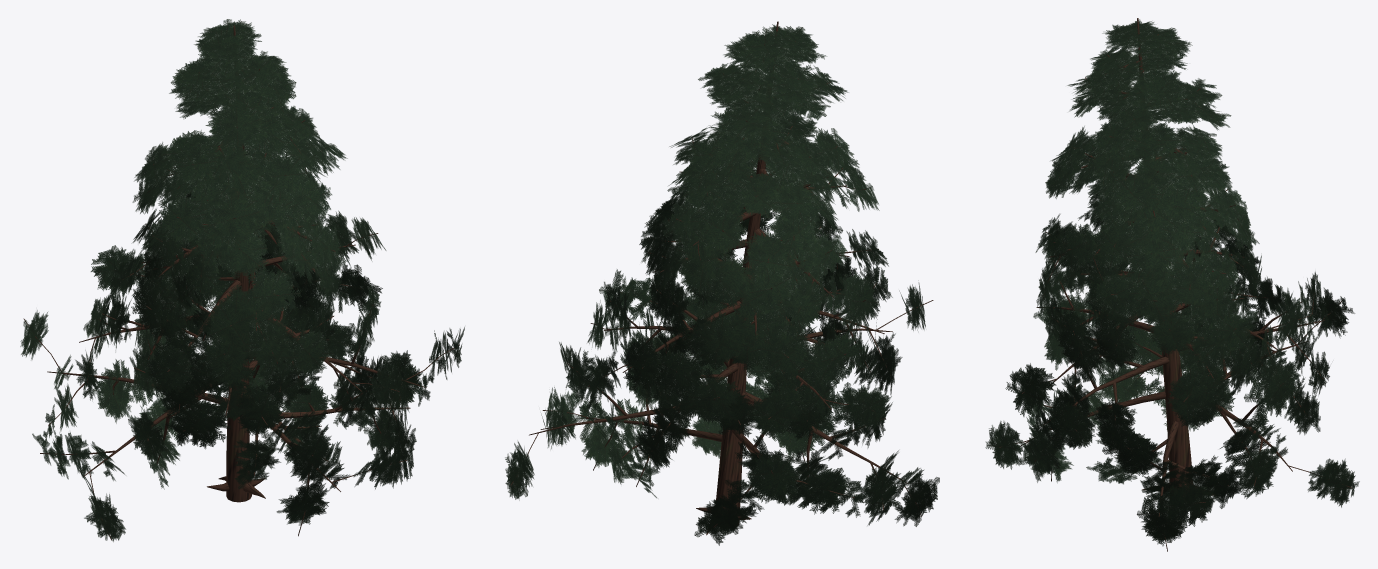
Rendered from DarkPine_1.gltf.
3 renders of one model, left to right at view 1: azimuth 30°, elevation 25°; view 2: azimuth 150°, elevation 25°; view 3: azimuth 270°, elevation 25°, orthographic. The views are drawn at different scales.
Visible parts, largest first — view 1: DarkPine_1; view 2: DarkPine_1; view 3: DarkPine_1.
Part boxes in pixels (x1,y1,x2,y2): DarkPine_1: (20, 19, 464, 541); DarkPine_1: (505, 21, 939, 545); DarkPine_1: (985, 18, 1359, 551).
Bounding box in the file's own units: 13.02 × 16.52 × 12.3.
2 materials, 2 textured.
